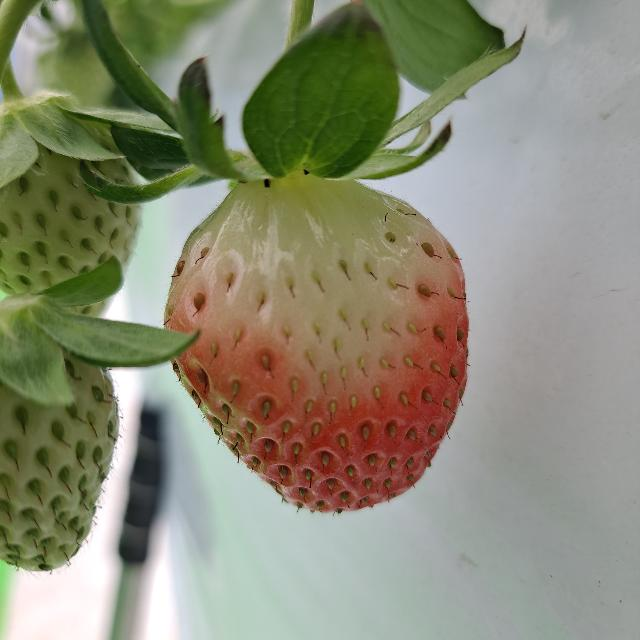Health_25: (0, 284, 116, 578), (0, 89, 140, 308)
Health_75: (163, 180, 469, 514)
